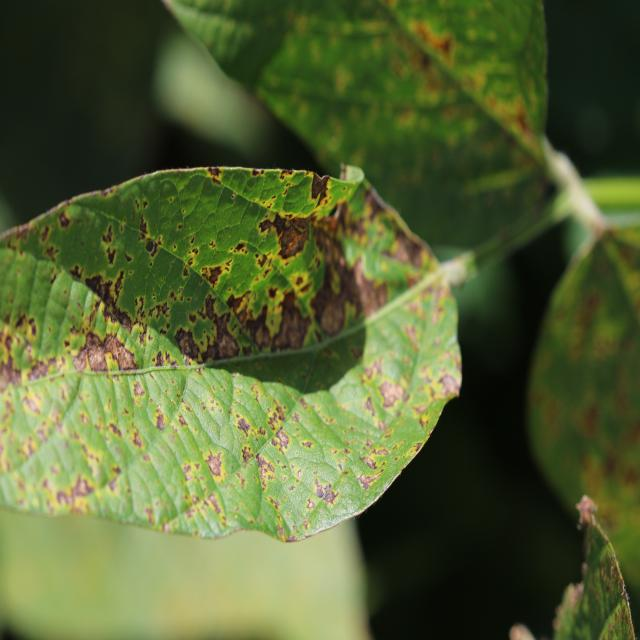Bacterial_Blight: (262, 417, 351, 523), (189, 301, 243, 362), (415, 344, 462, 411), (354, 259, 389, 318), (270, 299, 308, 352), (387, 224, 428, 271), (276, 217, 311, 259), (103, 333, 137, 370), (202, 253, 228, 298), (60, 472, 95, 505), (147, 297, 175, 327), (377, 378, 404, 409), (176, 328, 201, 361), (320, 301, 344, 335), (107, 301, 134, 330), (200, 392, 226, 421), (309, 171, 331, 203), (255, 456, 276, 488), (25, 357, 51, 382), (0, 353, 17, 387), (204, 450, 224, 478), (22, 391, 42, 415), (272, 427, 291, 452), (100, 222, 115, 251), (267, 409, 283, 432), (257, 216, 275, 235), (204, 294, 217, 320), (205, 493, 221, 514), (236, 416, 252, 436), (138, 213, 149, 239), (107, 472, 121, 492), (105, 245, 117, 266), (58, 210, 71, 229), (104, 351, 117, 370), (241, 445, 253, 464), (232, 242, 248, 256), (69, 264, 83, 280), (155, 412, 166, 432), (133, 379, 145, 397), (108, 421, 122, 436), (255, 253, 268, 269), (155, 351, 166, 367), (28, 318, 37, 336), (207, 166, 220, 177), (268, 286, 278, 299), (285, 533, 298, 542), (301, 439, 312, 449), (124, 251, 133, 263), (251, 168, 263, 177), (413, 442, 422, 453), (182, 266, 189, 277), (208, 240, 215, 248), (189, 236, 195, 244), (177, 223, 183, 230), (172, 244, 177, 250)
Soybean: (0, 166, 463, 640)
